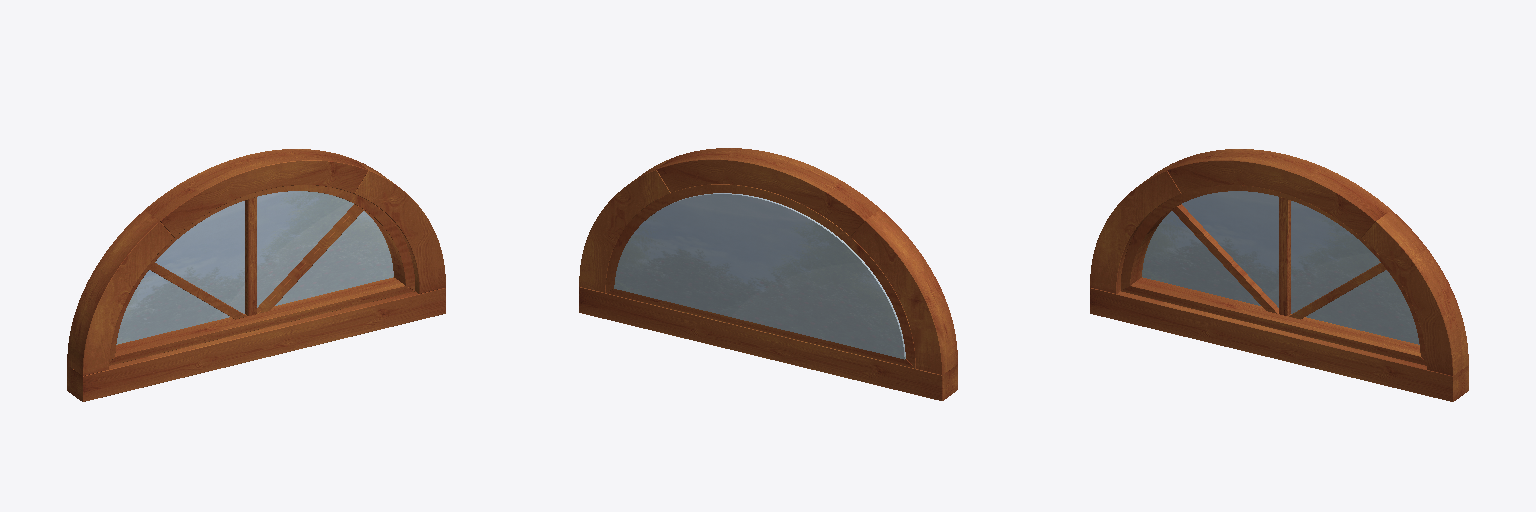
3 views of the same model, side by side, from view 1: azimuth 30°, elevation 25°; view 2: azimuth 150°, elevation 25°; view 3: azimuth 330°, elevation 25° (orthographic).
Parts seen in each view (by area): view 1: glass, trim_bottom, trim_top, trim_left, window_bottom, trim_right, window, muttin003, muttin002, muttin001; view 2: glass, trim_bottom, trim_top, trim_left, window, trim_right, window_bottom; view 3: glass, trim_bottom, trim_top, trim_right, window_bottom, trim_left, window, muttin001, muttin002, muttin003.
Boxes of the visible parts, x1=… form: glass: x1=116, y1=191, x2=393, y2=344; trim_bottom: x1=67, y1=288, x2=445, y2=401; trim_top: x1=145, y1=149, x2=368, y2=237; trim_left: x1=67, y1=210, x2=173, y2=375; window_bottom: x1=109, y1=277, x2=414, y2=365; trim_right: x1=355, y1=160, x2=445, y2=293; window: x1=110, y1=185, x2=414, y2=361; muttin003: x1=257, y1=204, x2=363, y2=313; muttin002: x1=245, y1=197, x2=256, y2=315; muttin001: x1=149, y1=263, x2=246, y2=319; glass: x1=614, y1=193, x2=905, y2=359; trim_bottom: x1=579, y1=287, x2=957, y2=400; trim_top: x1=656, y1=148, x2=879, y2=236; trim_left: x1=851, y1=209, x2=957, y2=374; window: x1=606, y1=184, x2=915, y2=368; trim_right: x1=579, y1=159, x2=670, y2=292; window_bottom: x1=607, y1=289, x2=914, y2=368; glass: x1=1142, y1=191, x2=1419, y2=344; trim_bottom: x1=1090, y1=288, x2=1468, y2=401; trim_top: x1=1167, y1=149, x2=1390, y2=237; trim_right: x1=1362, y1=210, x2=1468, y2=375; window_bottom: x1=1121, y1=277, x2=1426, y2=365; trim_left: x1=1090, y1=160, x2=1180, y2=293; window: x1=1121, y1=185, x2=1425, y2=361; muttin001: x1=1172, y1=204, x2=1278, y2=313; muttin002: x1=1279, y1=197, x2=1290, y2=315; muttin003: x1=1289, y1=263, x2=1386, y2=319.
Bounding box in the file's own units: 31.93 × 16.11 × 2.6.
Materials: 5 (5 with a texture image).